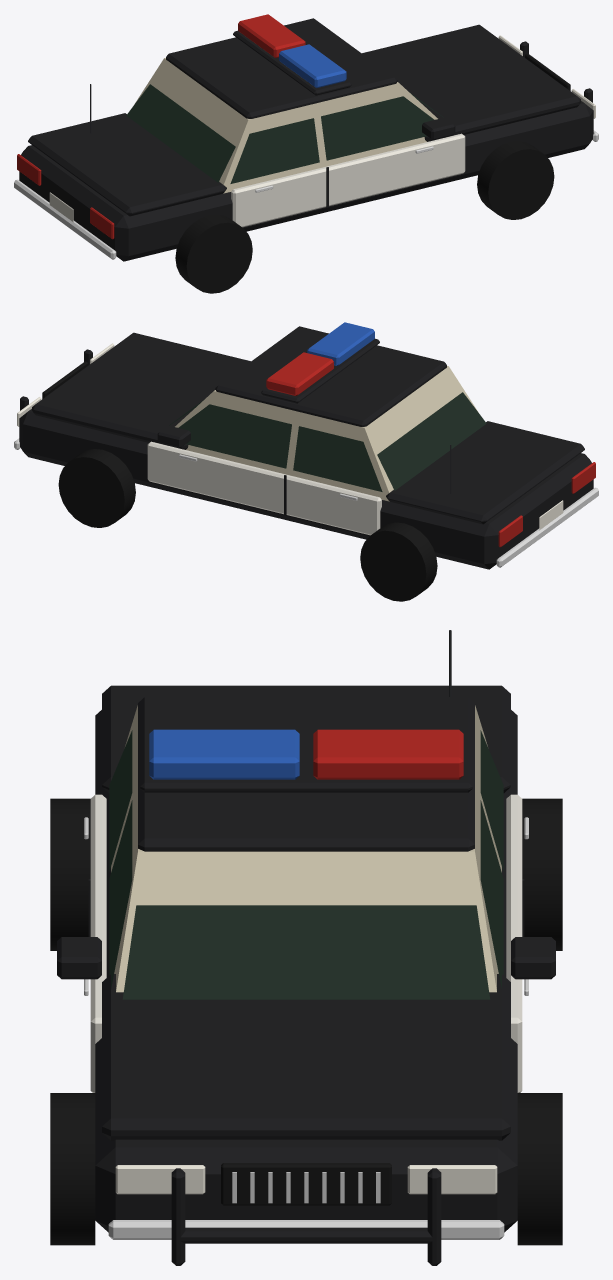
File: FleetCruiser.gltf
3 renders of one model, top to bottom at view 1: azimuth 30°, elevation 25°; view 2: azimuth 150°, elevation 25°; view 3: azimuth 270°, elevation 25°, orthographic. The views are drawn at different scales.
Parts seen in each view (by area): view 1: FleetCruiser; view 2: FleetCruiser; view 3: FleetCruiser.
Boxes of the visible parts, bbox=[...] form: FleetCruiser: bbox=[14, 14, 598, 293]; FleetCruiser: bbox=[14, 322, 598, 601]; FleetCruiser: bbox=[50, 630, 562, 1265].
Size of the model in its own units: 5.13 by 1.64 by 2.28.
